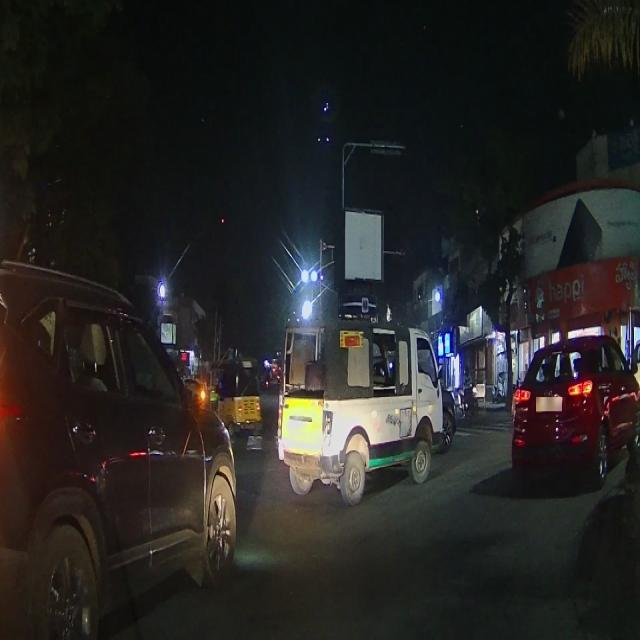auto ahead at: (272, 314, 449, 516)
car ahead at: (0, 260, 248, 640), (504, 321, 640, 485)
